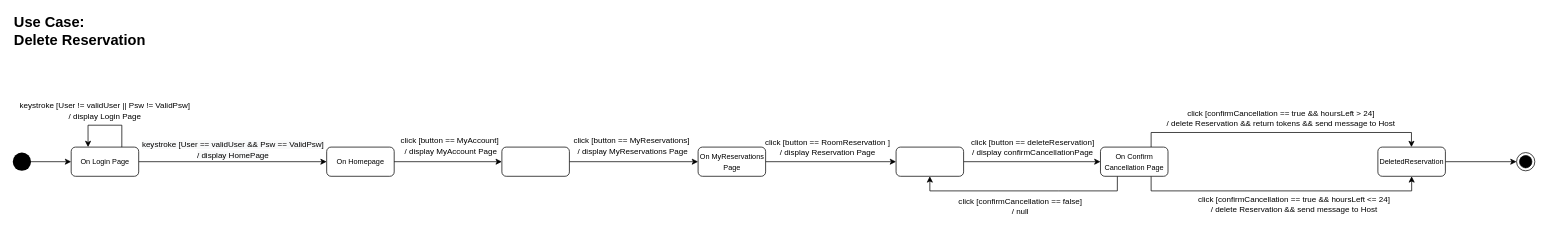
Image size: 1548x228. Some labels were removed from this diagram. The shapes that lost their labels are listed below. From the top down, each one's box as (x1, y1, x2, y2) in pixels, then its label:
(501, 146, 569, 176): On MyAccount Page
(895, 146, 964, 176): On RoomReservation Page
